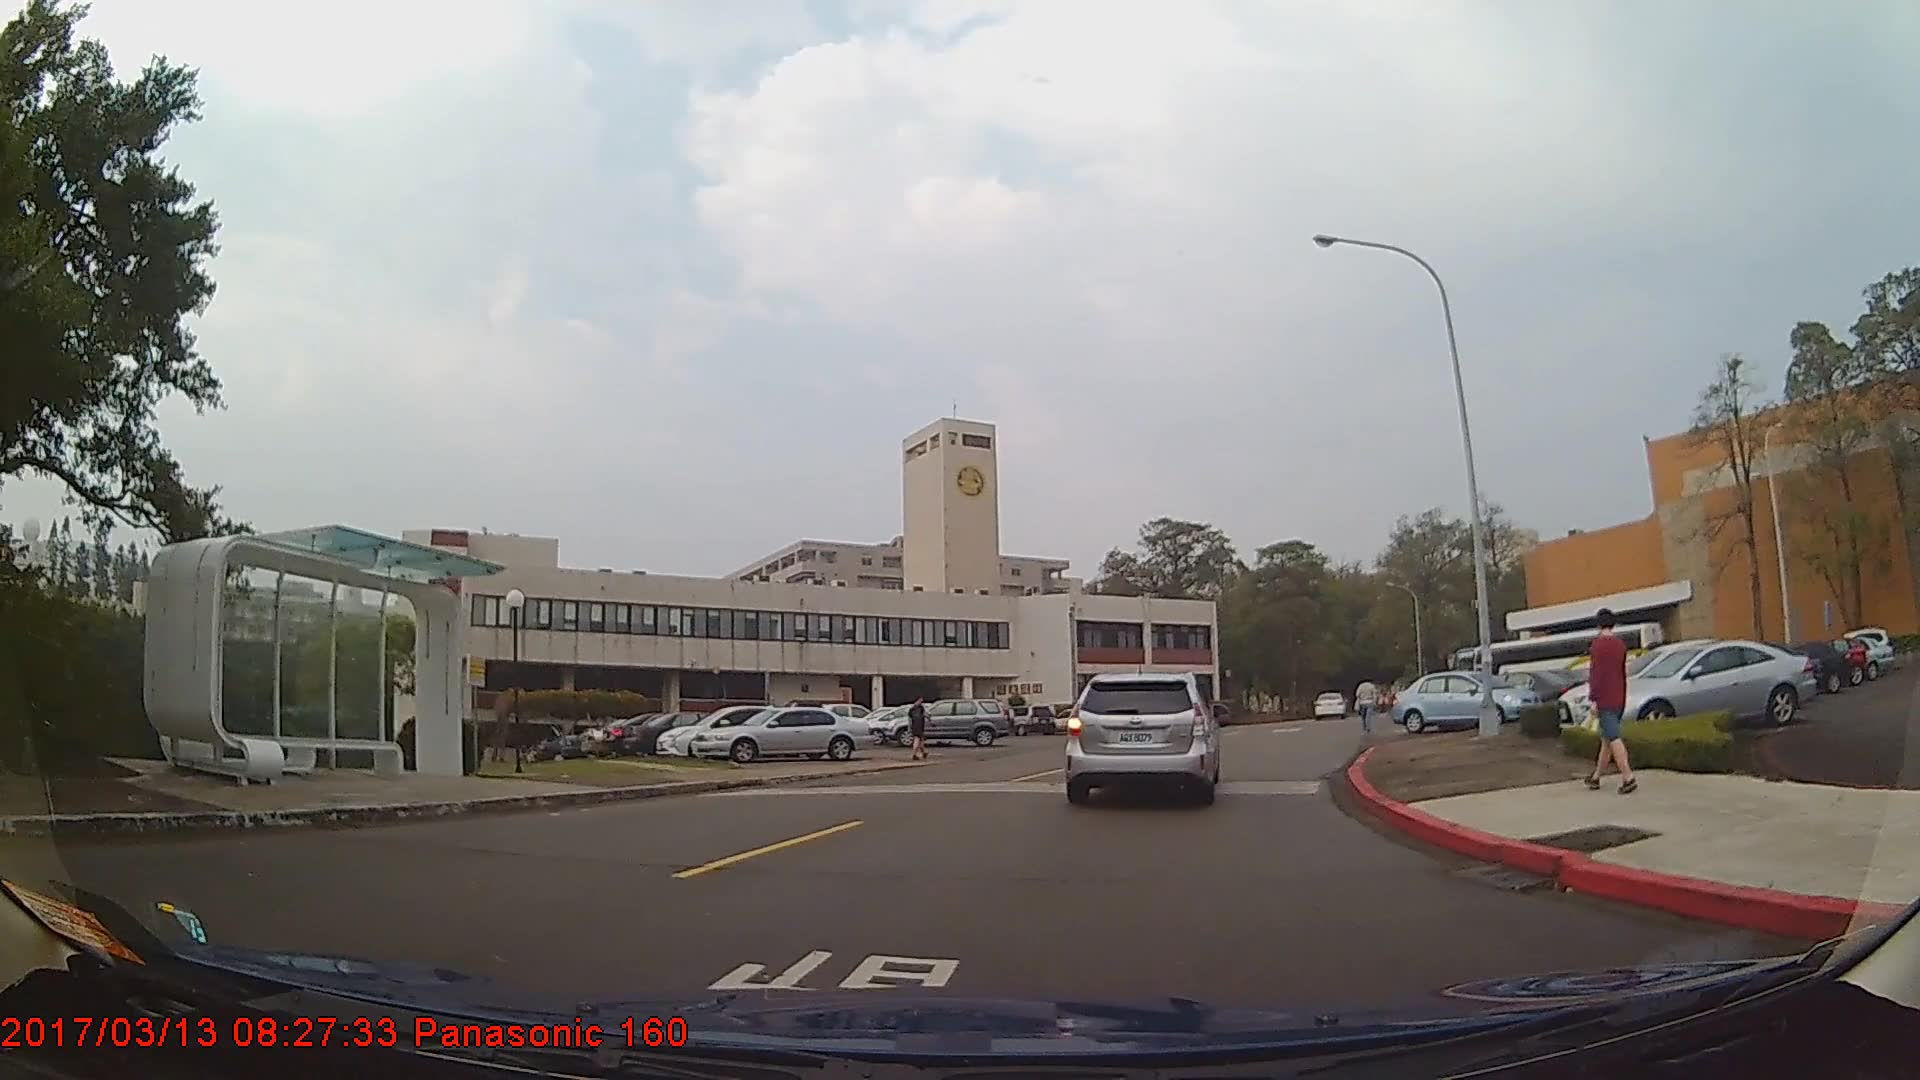pedestrian: (1583, 608, 1639, 805), (906, 695, 933, 764), (1355, 672, 1382, 736)
vehicle: (1586, 638, 1815, 731), (1067, 668, 1218, 807), (1557, 638, 1779, 732), (690, 705, 872, 760), (1388, 666, 1539, 731), (651, 704, 830, 758), (621, 708, 745, 760), (1737, 641, 1852, 695), (882, 697, 1011, 744), (1312, 687, 1346, 719)
